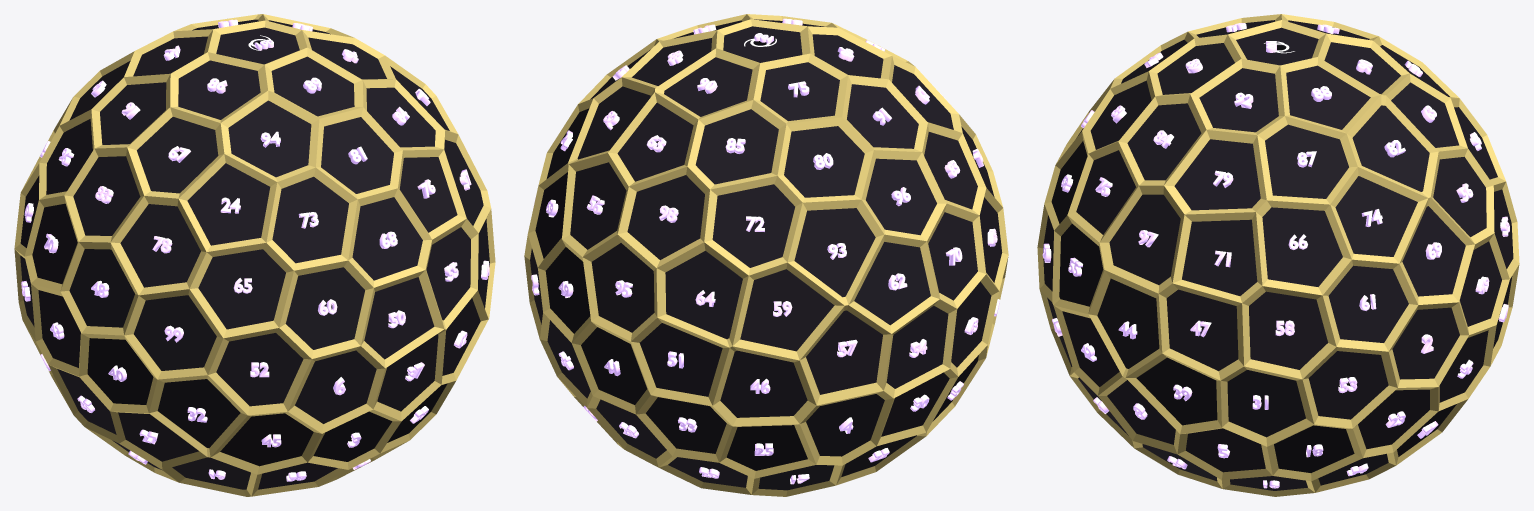
Rendered from d100_black_hole_gold.glb.
3 views of the same model, side by side, from view 1: azimuth 30°, elevation 25°; view 2: azimuth 150°, elevation 25°; view 3: azimuth 270°, elevation 25° (orthographic).
Visible parts, largest first — view 1: D100_BlackHole_Gold_Master; view 2: D100_BlackHole_Gold_Master; view 3: D100_BlackHole_Gold_Master.
Part boxes in pixels (x1,y1,x2,y2): D100_BlackHole_Gold_Master: [14, 14, 495, 496]; D100_BlackHole_Gold_Master: [524, 14, 1008, 496]; D100_BlackHole_Gold_Master: [1037, 14, 1519, 496].
Bounding box in the file's own units: 5.08 × 5.01 × 5.12.
